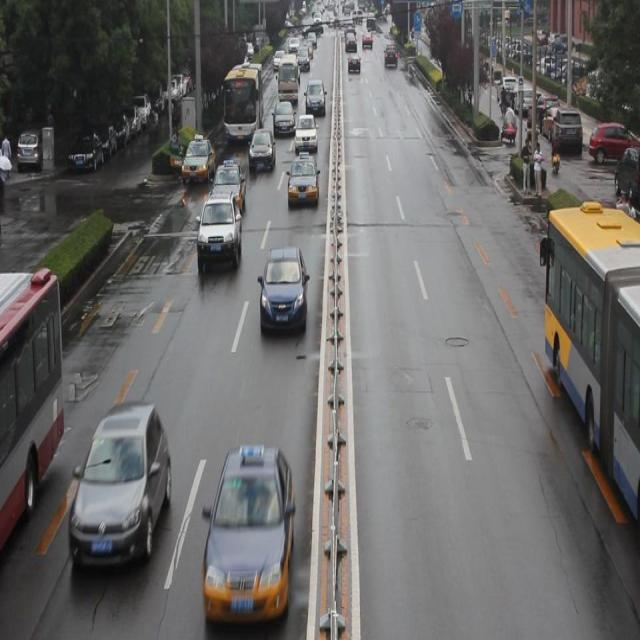car: (71, 408, 168, 562), (205, 447, 293, 611), (259, 248, 307, 330), (196, 196, 242, 272), (209, 161, 246, 216), (183, 134, 216, 184), (287, 154, 318, 205), (248, 129, 276, 171), (292, 113, 317, 154), (272, 97, 293, 138)
van: (538, 193, 640, 520), (1, 268, 66, 542), (223, 58, 263, 140)
